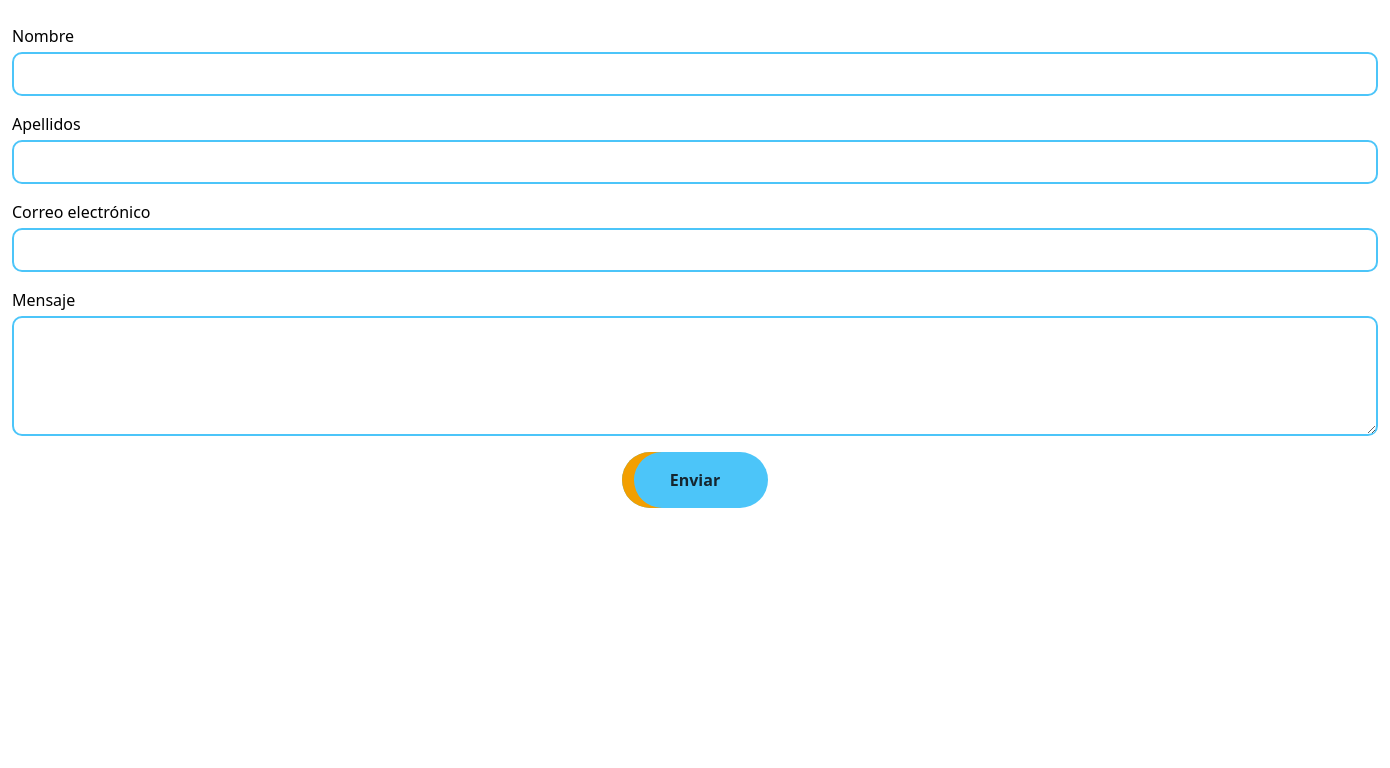
Test case: ContactForm with a Formspree ID › posts to Formspree as JSON-accepting request and clears the form on success
Type "Ana" into the field labelled "Nombre". click: (695, 74)
box: [12,52,1378,96]
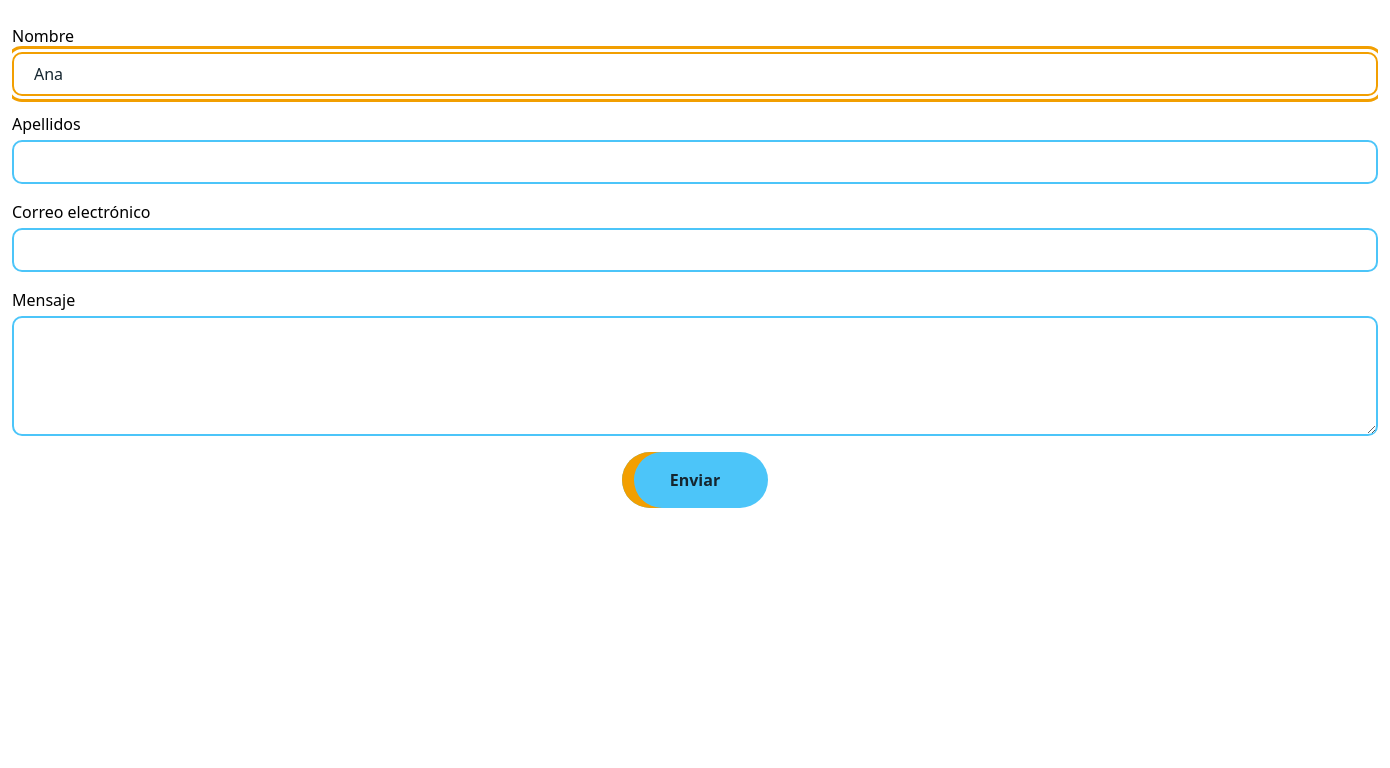
Type "Mora Solís" into the field labelled "Apellidos". click: (695, 162)
box: [12,140,1378,184]
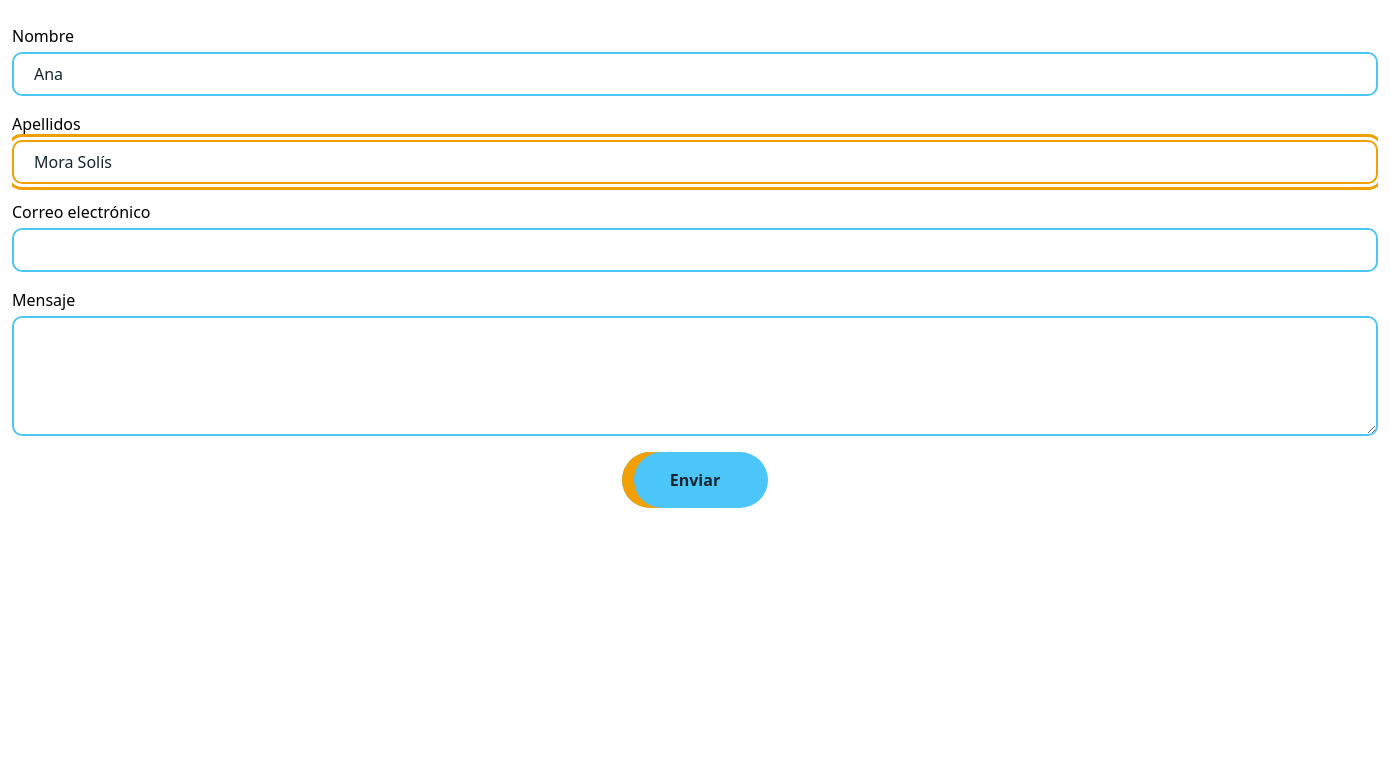
Type "ana@example.com" into the field labelled "Correo electrónico". click: (695, 250)
box: [12,228,1378,272]
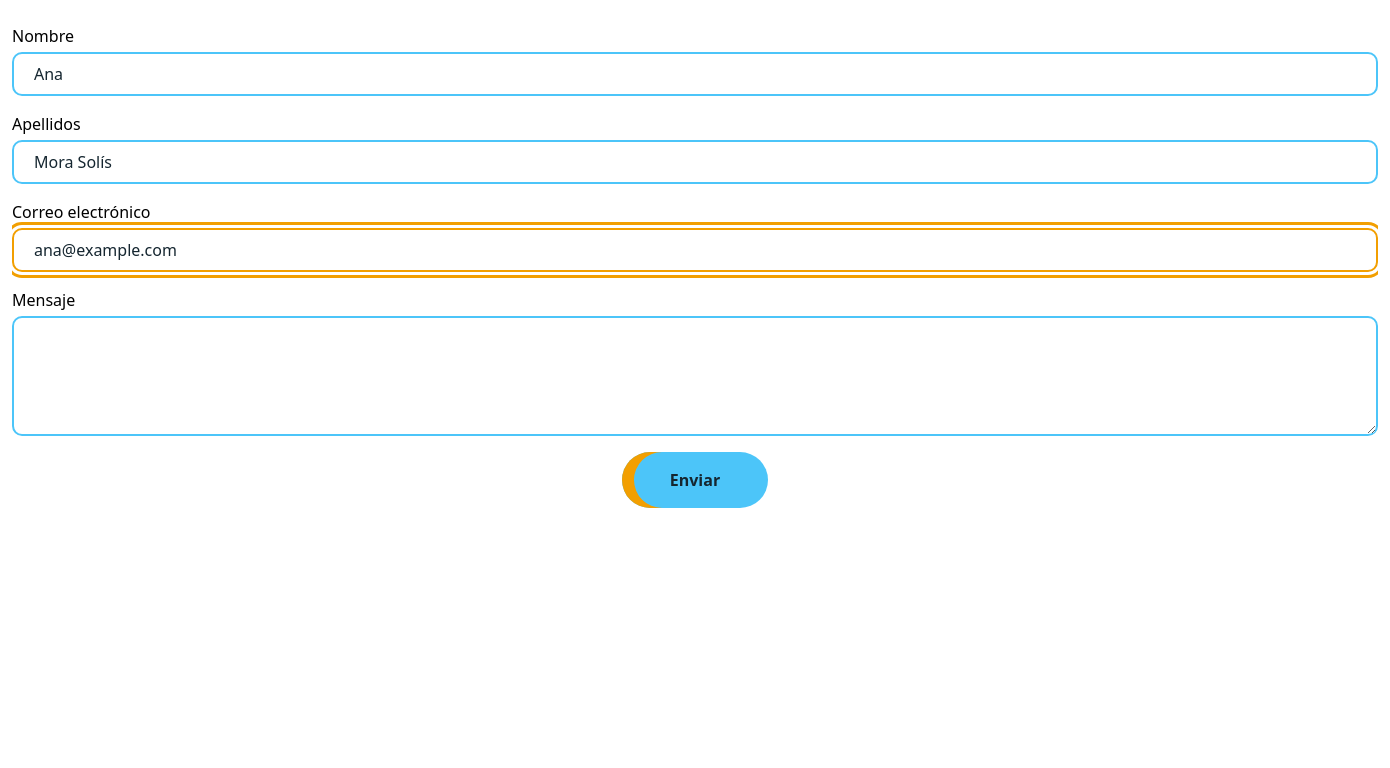
Type "Quiero una demo." into the text box labelled "Mensaje". click: (695, 376)
box: [12,316,1378,436]
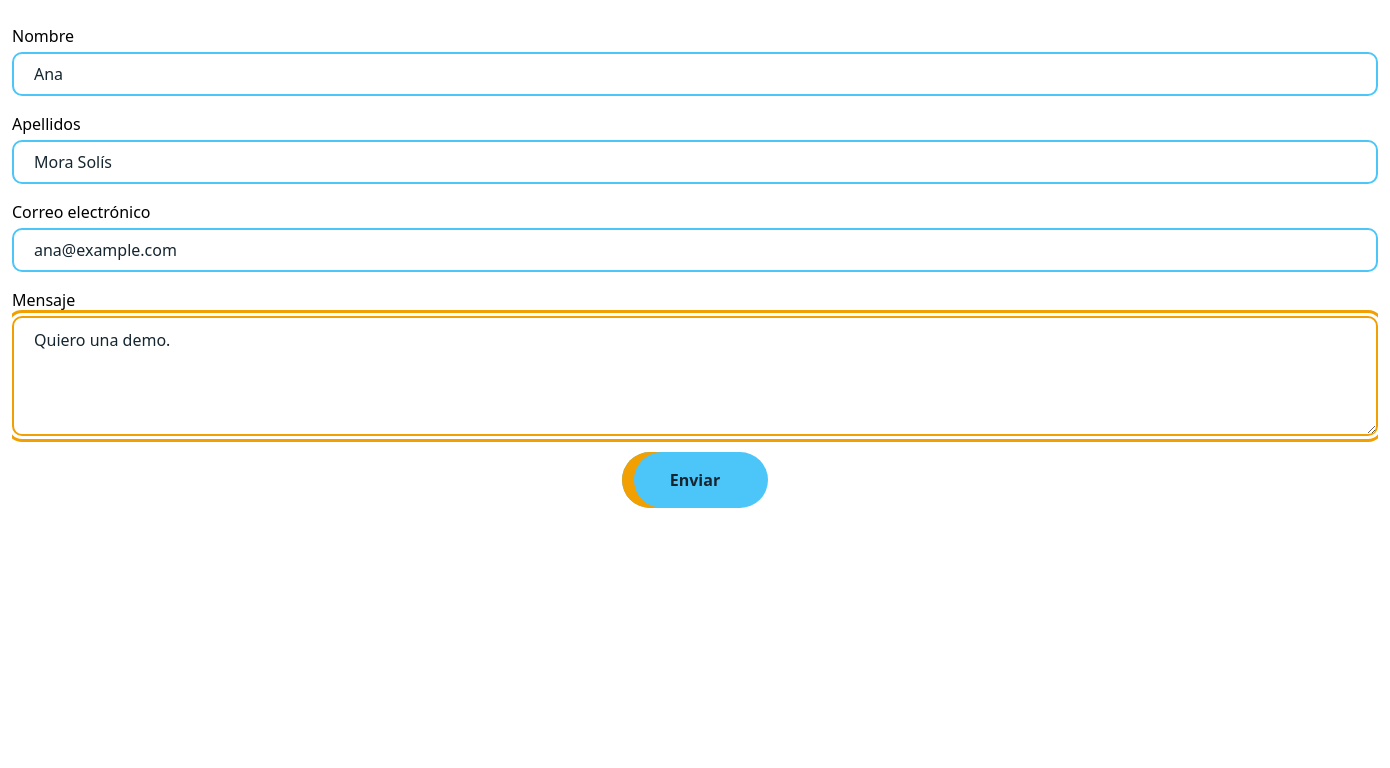
Click the button "Enviar". click: (695, 480)
box: [622,452,768,508]
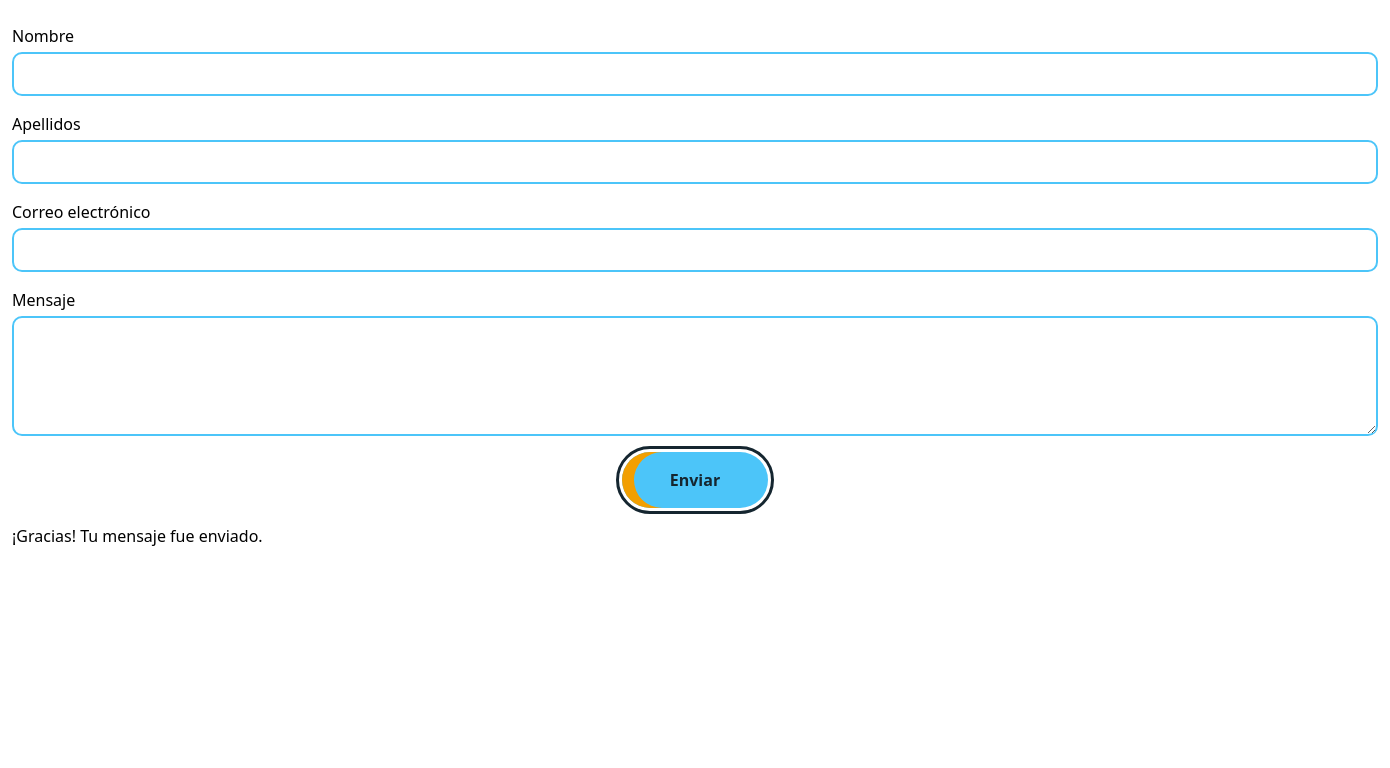
Now the text "¡Gracias! Tu mensaje fue enviado." is shown, box [12,525,263,547]
Now the field labelled "Nombre" is empty, box [12,52,1378,96]
Now the field labelled "Apellidos" is empty, box [12,140,1378,184]
